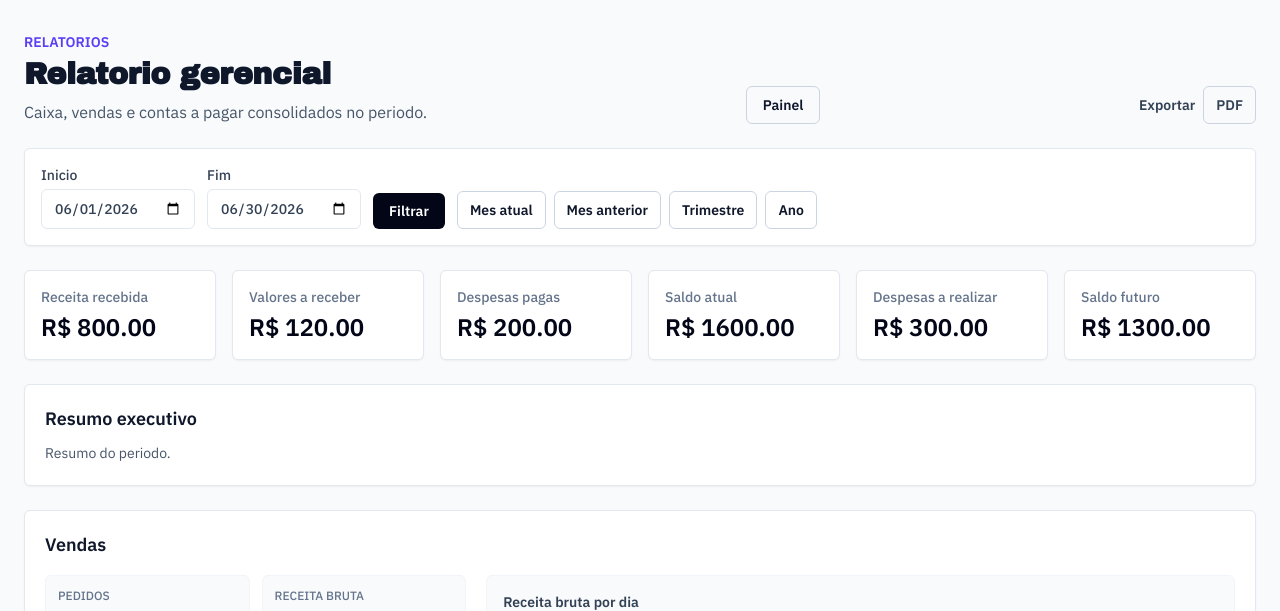
ManagementReportClient › requests asynchronous PDF export with user feedback
What coordinates should you click on to do the following:
click the button "PDF"
I would click on:
 (1230, 105)
Its box is [1203,86,1256,124].
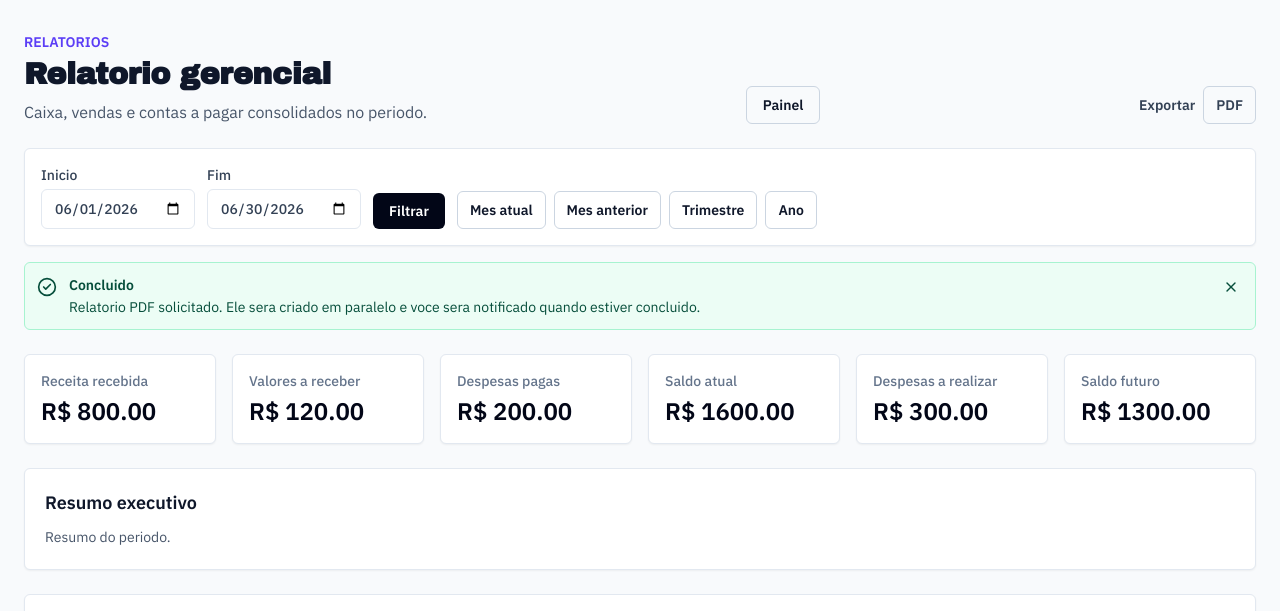
Now the text "Relatorio PDF solicitado" is shown, box [69,298,700,316]
